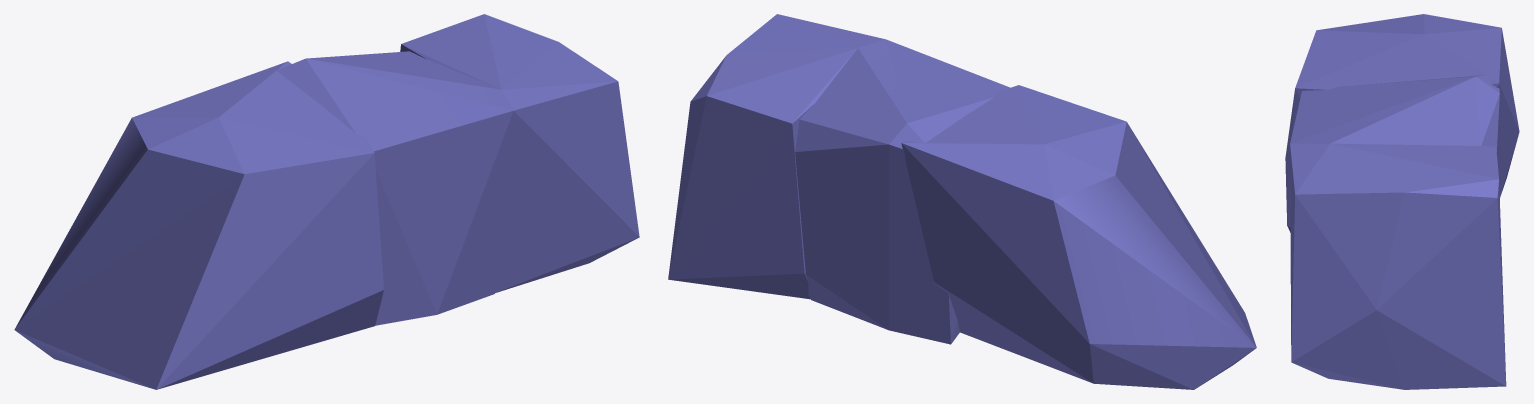
The model's file is Cliff_Block_02_Slope_Collider_01.FBX.
3 views of the same model, side by side, from view 1: azimuth 30°, elevation 25°; view 2: azimuth 150°, elevation 25°; view 3: azimuth 270°, elevation 25° (orthographic).
Visible parts, largest first — view 1: COLLIDER2, COLLIDER1, COLLIDER3; view 2: COLLIDER2, COLLIDER1, COLLIDER3; view 3: COLLIDER3, COLLIDER2, COLLIDER1.
Boxes of the visible parts, x1=… form: COLLIDER2: x1=14, y1=61, x2=383, y2=389; COLLIDER1: x1=276, y1=51, x2=513, y2=325; COLLIDER3: x1=400, y1=14, x2=639, y2=292; COLLIDER2: x1=901, y1=85, x2=1256, y2=389; COLLIDER1: x1=795, y1=39, x2=1009, y2=344; COLLIDER3: x1=668, y1=14, x2=885, y2=299; COLLIDER3: x1=1290, y1=143, x2=1506, y2=389; COLLIDER2: x1=1285, y1=14, x2=1519, y2=232; COLLIDER1: x1=1290, y1=75, x2=1499, y2=198.
Bounding box in the file's own units: 921 × 315 × 333.
